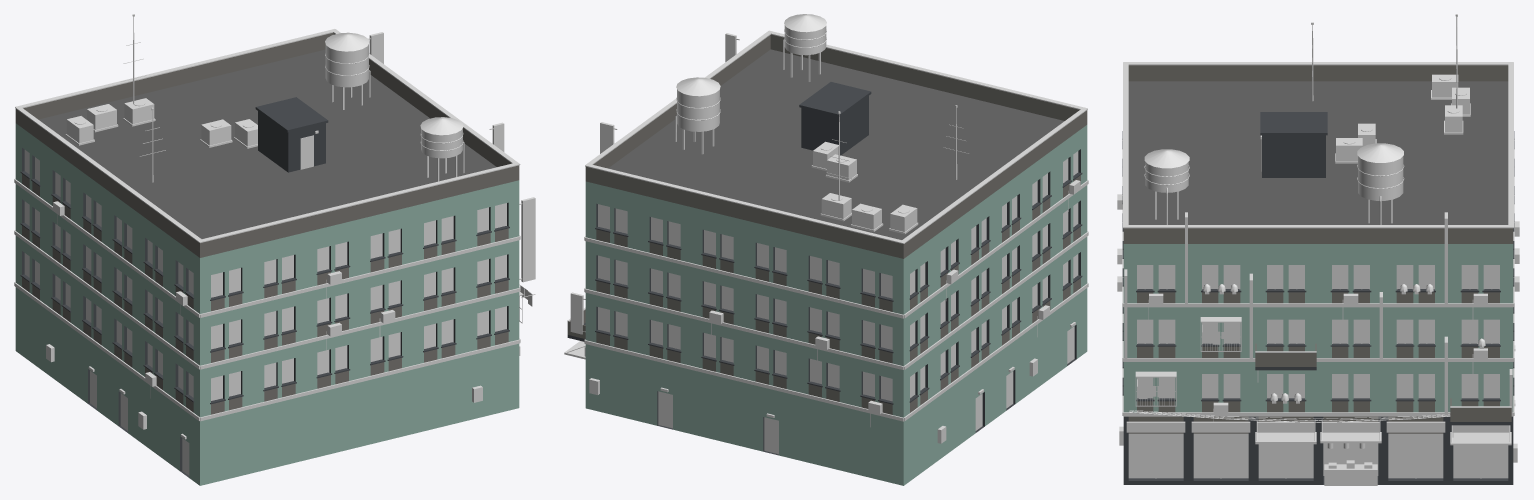
Rendered from Plaza_Block_07.fbx.
The picture shows the model from 3 angles, left to right: view 1: azimuth 30°, elevation 25°; view 2: azimuth 150°, elevation 25°; view 3: azimuth 270°, elevation 25°; orthographic projection. The views are drawn at different scales.
Parts seen in each view (by area): view 1: Plaza_Block_07_LOD0; view 2: Plaza_Block_07_LOD0; view 3: Plaza_Block_07_LOD0.
Part boxes in pixels (bbox=[...]): Plaza_Block_07_LOD0: bbox=[14, 14, 535, 485]; Plaza_Block_07_LOD0: bbox=[564, 14, 1088, 485]; Plaza_Block_07_LOD0: bbox=[1117, 14, 1519, 485].
Size of what is drawn, in the model's own units: 23.91 by 21.97 by 22.73.
